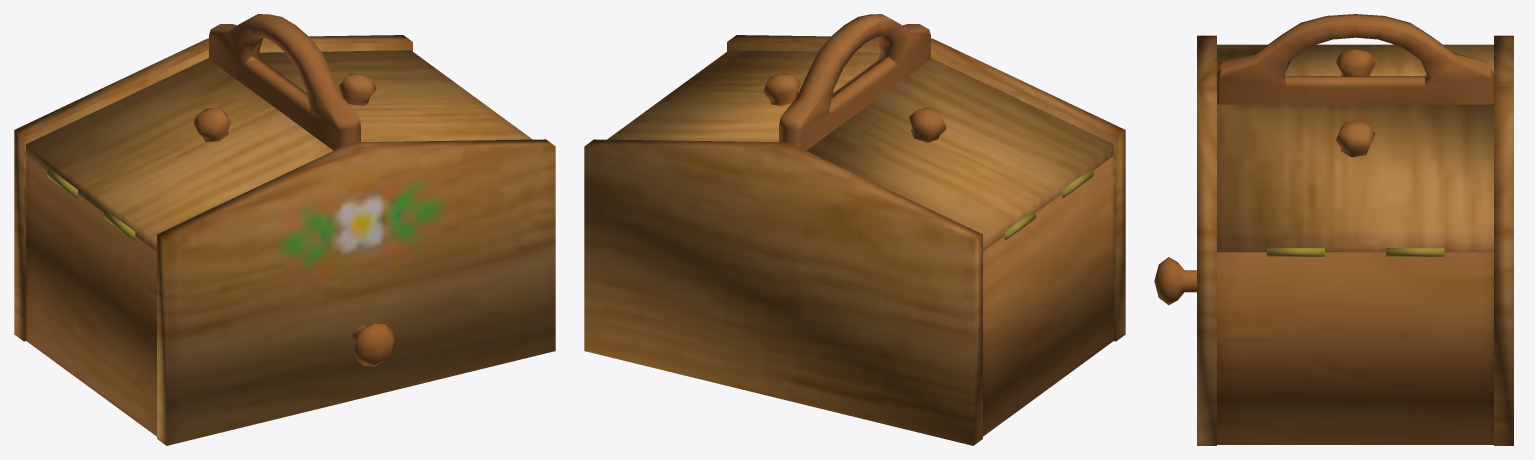
3 renders of one model, left to right at view 1: azimuth 30°, elevation 25°; view 2: azimuth 150°, elevation 25°; view 3: azimuth 270°, elevation 25°, orthographic. The views are drawn at different scales.
Size of the model in its own units: 6.54 by 5.06 by 5.08.
Materials: 1 (1 with a texture image).
